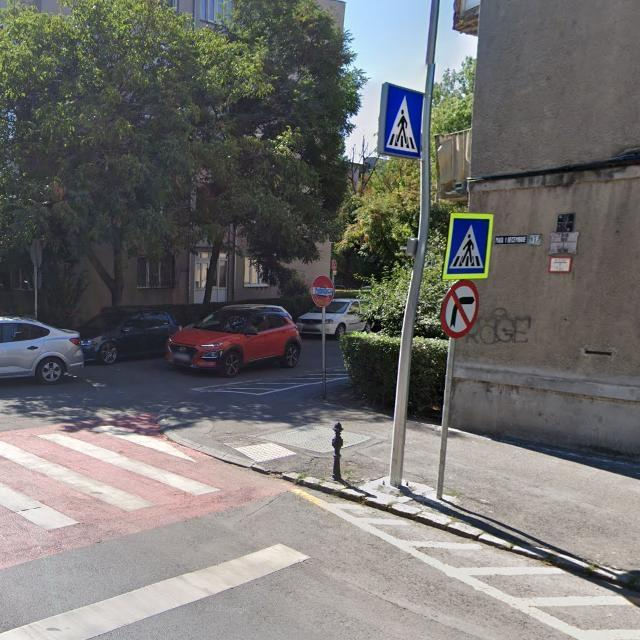info_crosswalk: (378, 82, 428, 161), (444, 212, 494, 279)
